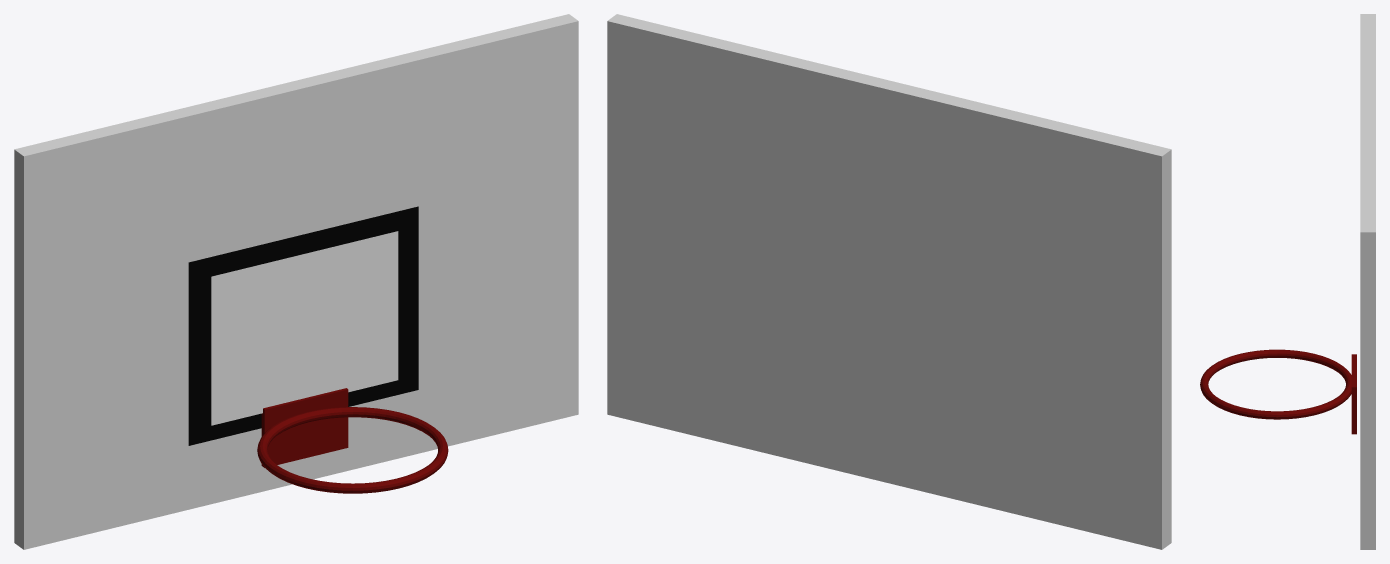
The model's file is basketgoal.fbx.
3 views of the same model, side by side, from view 1: azimuth 30°, elevation 25°; view 2: azimuth 150°, elevation 25°; view 3: azimuth 270°, elevation 25° (orthographic). The views are drawn at different scales.
Parts seen in each view (by area): view 1: Board, Plane.001, Plane, Rim, Cube; view 2: Board; view 3: Board, Rim, Cube.
Part boxes in pixels (x1,y1,x2,y2): Board: [14, 14, 578, 549]; Plane.001: [211, 231, 398, 425]; Plane: [188, 206, 418, 445]; Rim: [257, 407, 448, 493]; Cube: [261, 388, 348, 467]; Board: [607, 14, 1171, 549]; Board: [1360, 14, 1375, 549]; Rim: [1200, 349, 1351, 419]; Cube: [1351, 354, 1356, 434].
Size of the model in its own units: 995 by 674 by 338.
